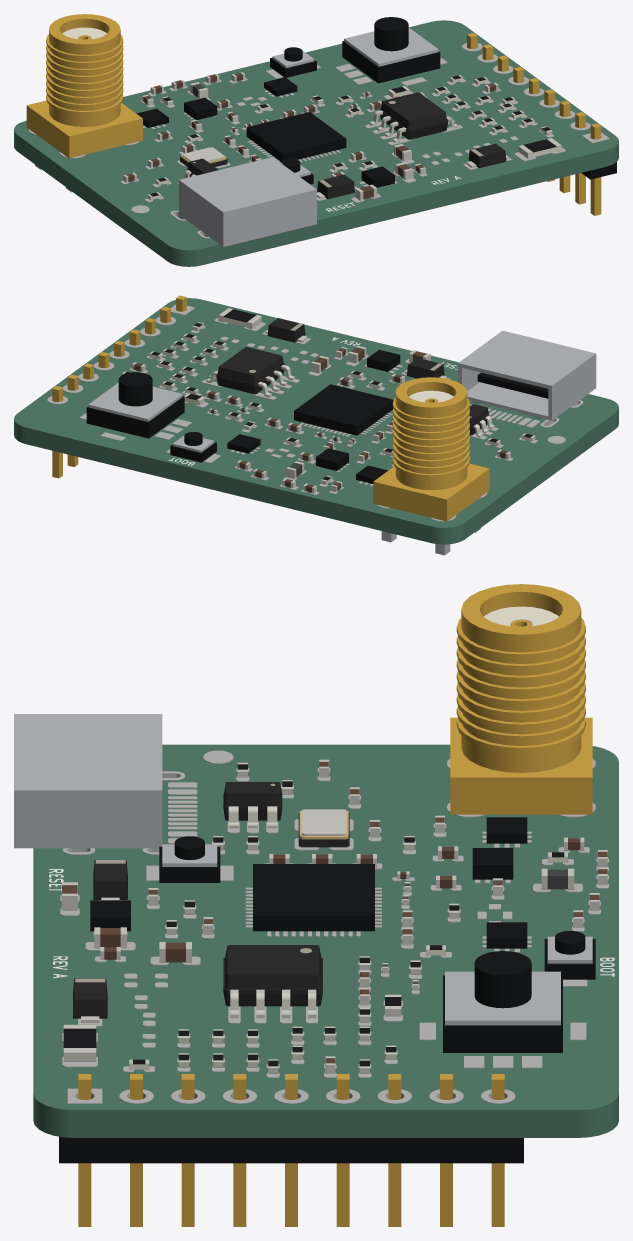
File: C5VRX_PRO.glb
3 views of the same model, one above another, from view 1: azimuth 30°, elevation 25°; view 2: azimuth 150°, elevation 25°; view 3: azimuth 270°, elevation 25° (orthographic). The views are drawn at different scales.
Visible parts, largest first — view 1: =>[0:1:1:112], shield, package (×7), =>[0:1:1:109], barrel, base, =>[0:1:1:106], part0, =>[0:1:1:9] (×2), part1, pin0, =>[0:1:1:25] (+14 smaller); view 2: =>[0:1:1:112], shield, package (×7), =>[0:1:1:109], barrel, base, =>[0:1:1:106], part0, =>[0:1:1:9] (×2), part1, tongue, =>[0:1:1:48] (+12 smaller); view 3: =>[0:1:1:112], shield, package (×8), =>[0:1:1:109], barrel, insulator, base, =>[0:1:1:106], part0 (×2), part1, =>[0:1:1:9] (×2), =>[0:1:1:48] (+21 smaller).
Part boxes in pixels (x1,y1,x2,y2): =>[0:1:1:112]: (14, 20, 618, 266); shield: (179, 157, 316, 246); package (×7): (136, 41, 440, 187); =>[0:1:1:109]: (29, 43, 609, 238); barrel: (49, 14, 120, 126); base: (26, 100, 142, 158); =>[0:1:1:106]: (369, 92, 458, 142); part0: (344, 27, 438, 66); =>[0:1:1:9] (×2): (317, 143, 508, 199); part1: (374, 17, 408, 51); pin0: (590, 123, 601, 215); =>[0:1:1:25]: (518, 138, 561, 158); =>[0:1:1:112]: (14, 298, 618, 544); shield: (458, 330, 596, 420); package (×7): (86, 349, 400, 483); =>[0:1:1:109]: (47, 304, 583, 521); barrel: (395, 377, 467, 490); base: (373, 463, 489, 521); =>[0:1:1:106]: (206, 347, 294, 397); part0: (88, 382, 182, 421); =>[0:1:1:9] (×2): (265, 318, 446, 378); part1: (118, 372, 152, 406); tongue: (477, 372, 548, 398); =>[0:1:1:48]: (469, 404, 494, 437); =>[0:1:1:112]: (33, 744, 618, 1137); shield: (14, 714, 162, 848); package (×8): (90, 817, 595, 1052); =>[0:1:1:109]: (60, 750, 608, 1103); barrel: (461, 584, 581, 772); insulator: (59, 1136, 523, 1163); base: (450, 717, 592, 814); =>[0:1:1:106]: (223, 945, 322, 1018); part0 (×2): (162, 844, 560, 1025); part1: (474, 951, 531, 1008); =>[0:1:1:9] (×2): (73, 860, 127, 1022); =>[0:1:1:48]: (223, 782, 282, 828).
Bounding box in the file's own units: 0.0425 × 0.0165 × 0.0297.
